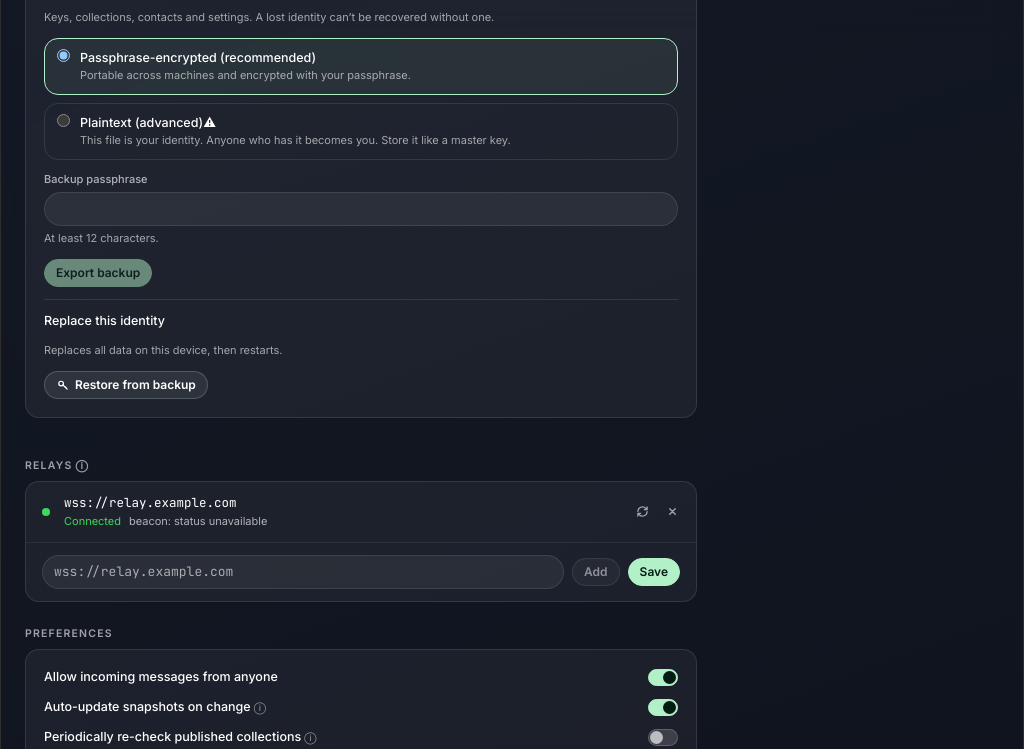
QURATOR-126 — validate the backup BEFORE wiping (INV-8) › declining the IN-APP consent modal leaves the UI usable — `restoring` resets, so the Restore button is not permanently locked
(page scrolled)
Step 1. Click the button "Restore from backup" → click(126, 385), box [44,371,208,399]
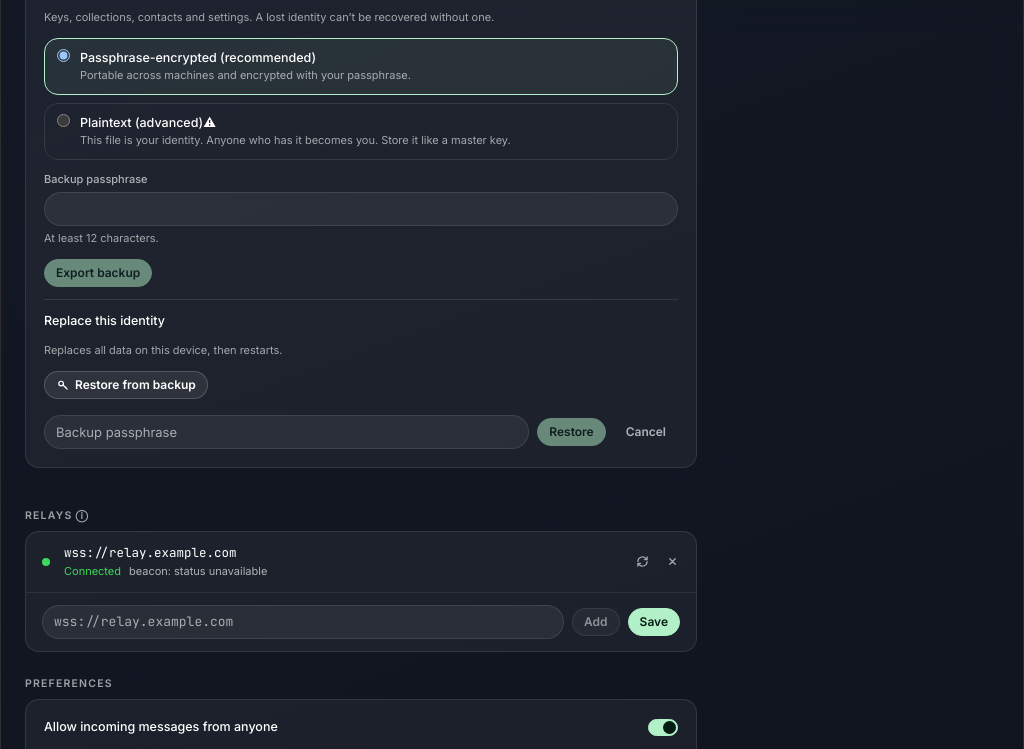
Step 2. Type "correct-horse-battery" into the 2nd password field with placeholder "Backup passphrase" → (287, 432), box [44,415,529,449]
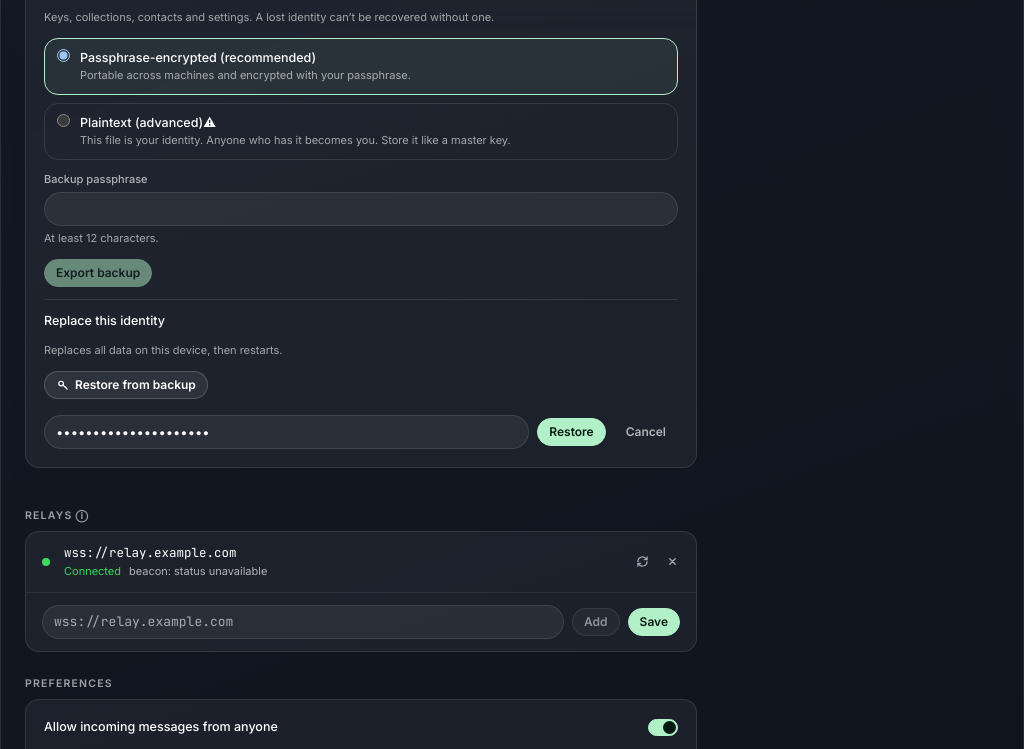
Step 3. Click the button "Restore" → click(572, 432), box [537,418,606,446]
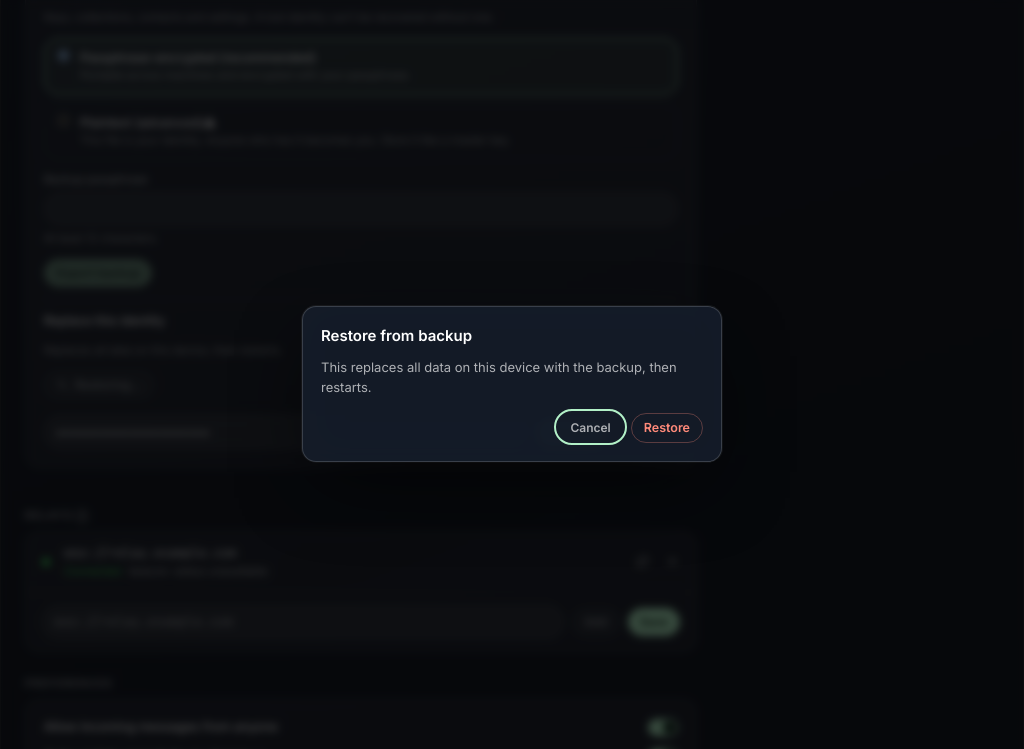
Expected: the dialog is shown, [302,306,722,462]
Expected: the button "Cancel" is shown
Step 4. Click the button "Cancel" → click(591, 427), box [558,413,623,441]
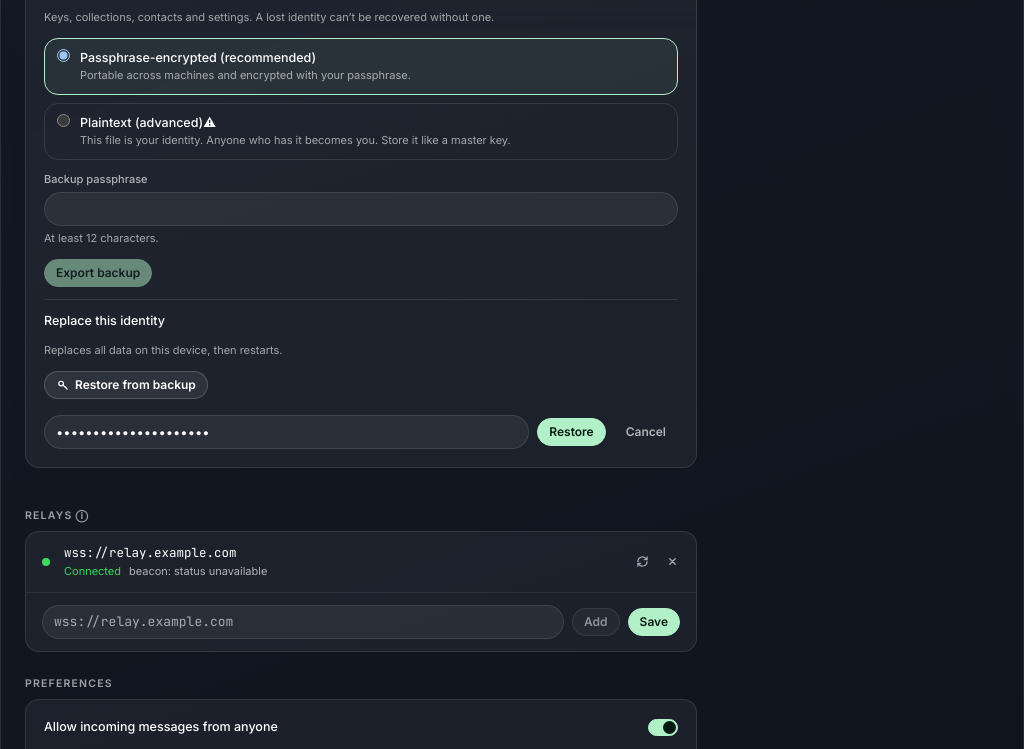
Expected: the button "Restore from backup" is enabled, [44,371,208,399]
Expected: the dialog is gone
